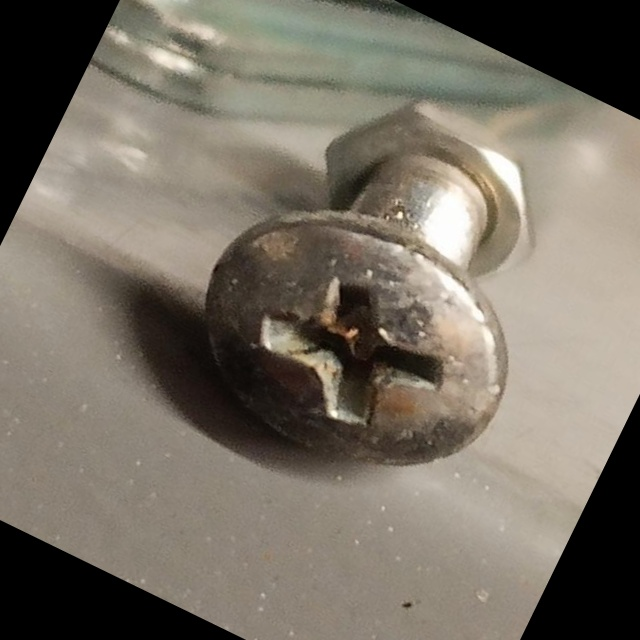phillips: (160, 171, 548, 517)
